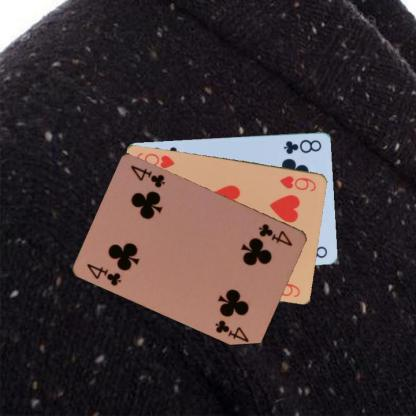4c: (84, 261, 123, 287), (256, 221, 294, 247)
6h: (277, 173, 318, 192)
8c: (281, 136, 323, 155)
